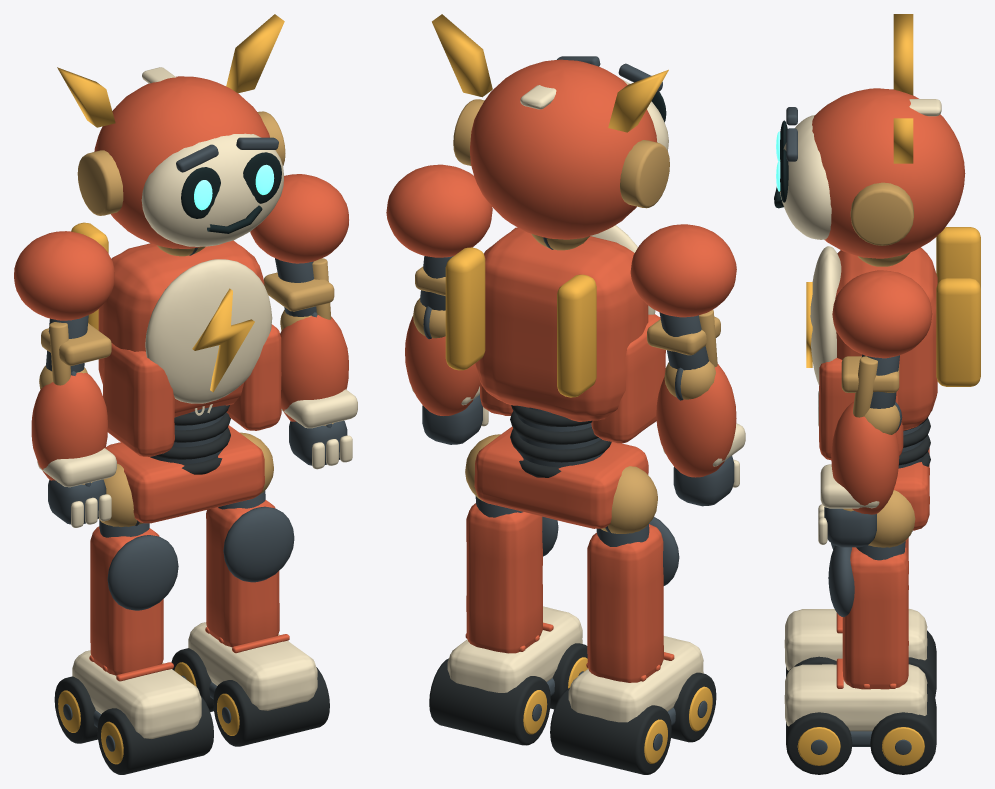
File: roller_daredevil.t3.glb
3 renders of one model, left to right at view 1: azimuth 30°, elevation 25°; view 2: azimuth 150°, elevation 25°; view 3: azimuth 270°, elevation 25°, orthographic. The views are drawn at different scales.
Parts seen in each view (by area): view 1: slot_torso__clay_vermilion__clay, slot_head__clay_vermilion__clay, slot_torso__clay_warm_ivory__clay, slot_head__clay_warm_ivory__clay, slot_armL__clay_vermilion__clay, slot_legL__clay_vermilion__clay, slot_legR__clay_vermilion__clay, slot_armR__clay_vermilion__clay, slot_legR__clay_warm_ivory__clay, slot_legL__clay_warm_ivory__clay, armL_elbow__clay_vermilion__clay, slot_legL__charcoal_rubber__protected (+25 smaller); view 2: slot_torso__clay_vermilion__clay, slot_head__clay_vermilion__clay, slot_legL__clay_vermilion__clay, slot_legR__clay_vermilion__clay, slot_torso__clay_saffron__protected, slot_armL__clay_vermilion__clay, slot_armR__clay_vermilion__clay, slot_legL__charcoal_rubber__protected, slot_legR__charcoal_rubber__protected, armL_elbow__clay_vermilion__clay, slot_legL__clay_warm_ivory__clay, slot_legR__clay_warm_ivory__clay (+18 smaller); view 3: slot_head__clay_vermilion__clay, slot_torso__clay_vermilion__clay, slot_legR__clay_vermilion__clay, slot_torso__clay_saffron__protected, slot_armR__clay_vermilion__clay, slot_legR__clay_warm_ivory__clay, armR_elbow__clay_vermilion__clay, slot_legR__charcoal_rubber__protected, slot_head__clay_warm_ivory__clay, slot_legL__clay_warm_ivory__clay, slot_head__worn_warm_brass__protected, slot_torso__clay_warm_ivory__clay (+13 smaller).
Boxes of the visible parts, x1,y1,x2,y2 form: slot_torso__clay_vermilion__clay: (98, 240, 281, 523); slot_head__clay_vermilion__clay: (94, 76, 269, 248); slot_torso__clay_warm_ivory__clay: (145, 259, 272, 403); slot_head__clay_warm_ivory__clay: (141, 133, 283, 246); slot_armL__clay_vermilion__clay: (14, 231, 114, 320); slot_legL__clay_vermilion__clay: (90, 526, 163, 675); slot_legR__clay_vermilion__clay: (206, 500, 279, 647); slot_armR__clay_vermilion__clay: (250, 174, 348, 263); slot_legR__clay_warm_ivory__clay: (188, 622, 317, 710); slot_legL__clay_warm_ivory__clay: (72, 650, 201, 738); armL_elbow__clay_vermilion__clay: (31, 372, 107, 480); slot_legL__charcoal_rubber__protected: (54, 676, 213, 774); slot_torso__clay_vermilion__clay: (474, 227, 665, 528); slot_head__clay_vermilion__clay: (469, 59, 657, 239); slot_legL__clay_vermilion__clay: (587, 524, 663, 682); slot_legR__clay_vermilion__clay: (466, 503, 542, 653); slot_torso__clay_saffron__protected: (445, 247, 596, 397); slot_armL__clay_vermilion__clay: (630, 224, 736, 317); slot_armR__clay_vermilion__clay: (386, 164, 492, 257); slot_legL__charcoal_rubber__protected: (550, 672, 716, 774); slot_legR__charcoal_rubber__protected: (429, 643, 587, 745); armL_elbow__clay_vermilion__clay: (656, 364, 736, 477); slot_legL__clay_warm_ivory__clay: (568, 636, 703, 722); slot_legR__clay_warm_ivory__clay: (447, 606, 582, 692); slot_head__clay_vermilion__clay: (812, 88, 965, 258); slot_torso__clay_vermilion__clay: (819, 247, 937, 530); slot_legR__clay_vermilion__clay: (842, 547, 908, 689); slot_torso__clay_saffron__protected: (806, 227, 980, 386); slot_armR__clay_vermilion__clay: (832, 270, 932, 358); slot_legR__clay_warm_ivory__clay: (784, 664, 927, 731); armR_elbow__clay_vermilion__clay: (831, 402, 899, 514); slot_legR__charcoal_rubber__protected: (786, 686, 936, 774); slot_head__clay_warm_ivory__clay: (779, 115, 831, 239); slot_legL__clay_warm_ivory__clay: (784, 609, 927, 670); slot_head__worn_warm_brass__protected: (850, 182, 913, 245); slot_torso__clay_warm_ivory__clay: (810, 246, 841, 385).
Bounding box in the file's own units: 1.39 × 2.78 × 0.787.
